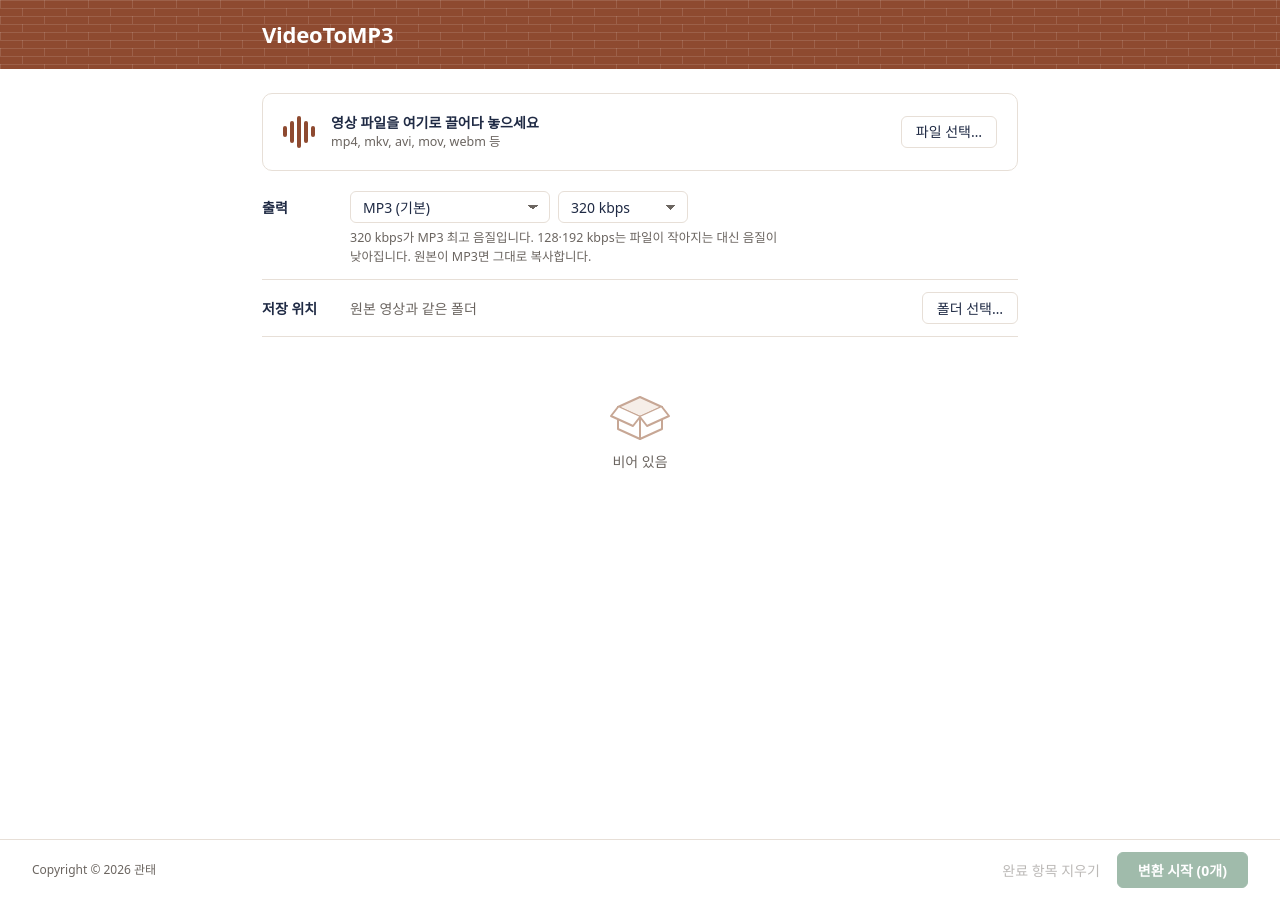
Test: 설정 › 형식 original: 음질 안내와 음질 선택 가능 여부
Select "원본 형식 그대로 (무손실)" in the dropdown named "출력 형식" at (450, 207), box top-left (350, 191), bottom-right (550, 223)
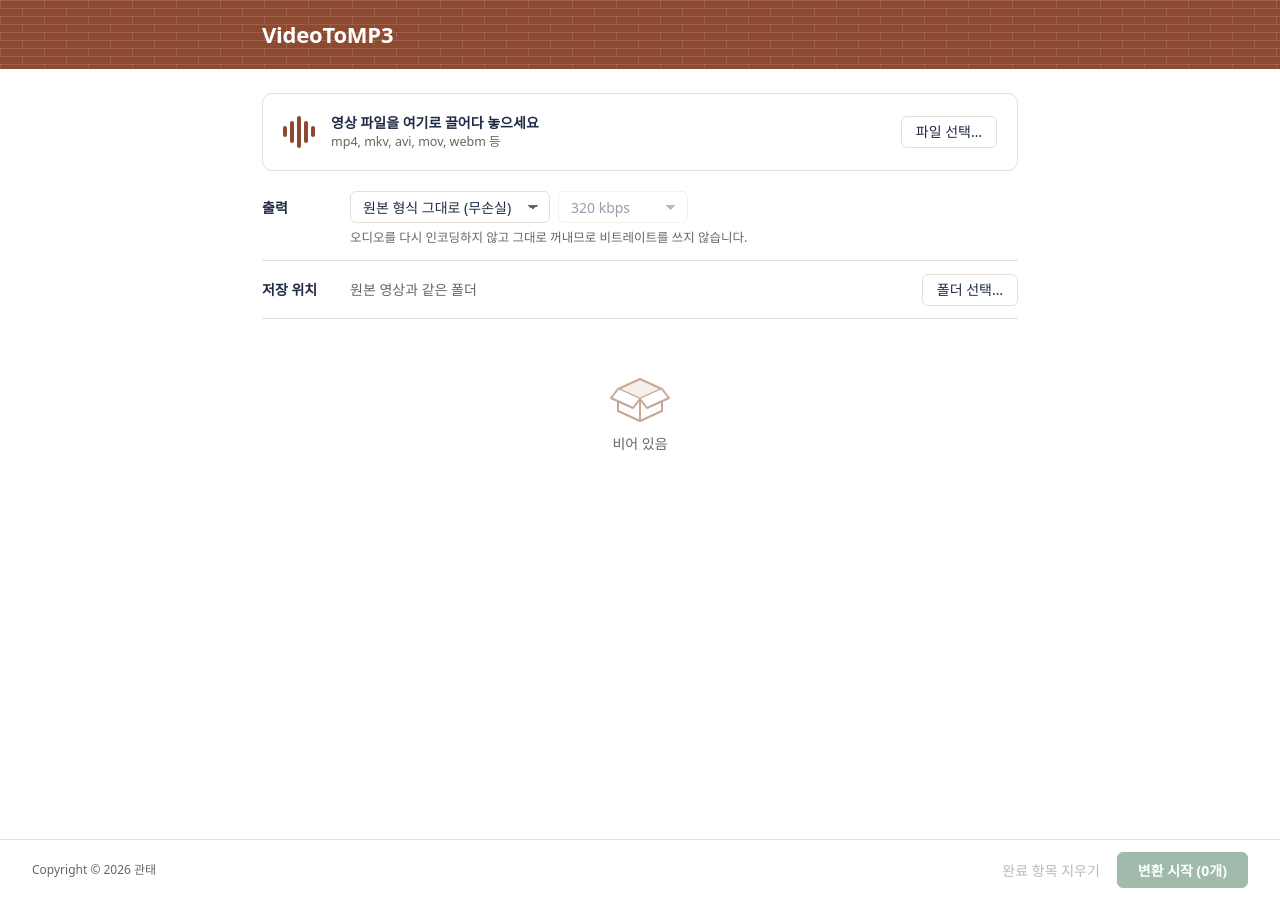
Result: the text with id "bitrate-hint" reads "오디오를 다시 인코딩하지 않고 그대로 꺼내므로 비트레이트를 쓰지 않습니다." at top-left (350, 229), bottom-right (747, 246)
Result: the dropdown named "음질" is disabled at top-left (558, 191), bottom-right (688, 223)
